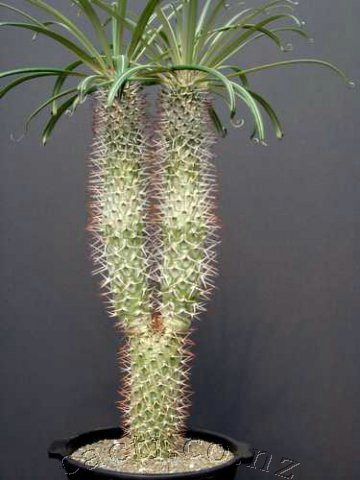Pachypodium geayi: (41, 10, 291, 463)
